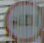Heavy Vehicles: (4, 2, 40, 42)
